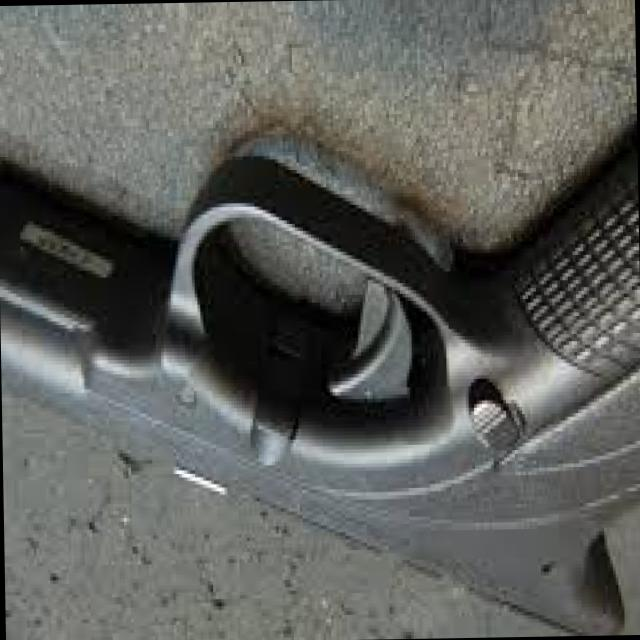Gun: (0, 34, 640, 640)
